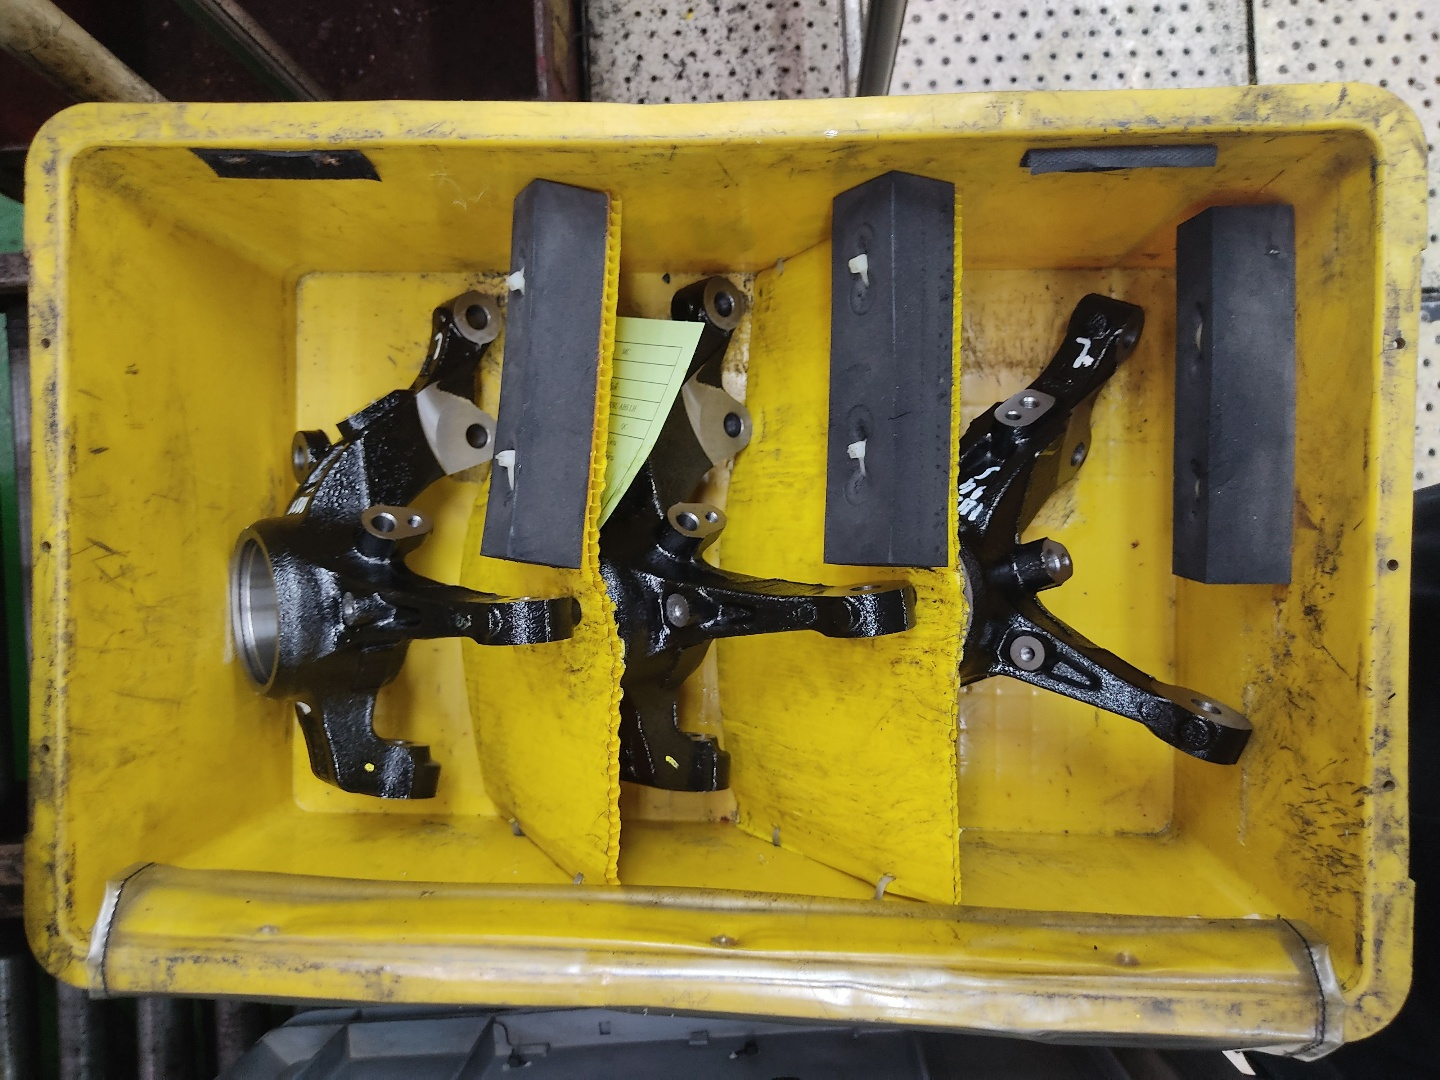abs-lh: (214, 281, 590, 811), (598, 261, 927, 813), (935, 280, 1267, 791)
